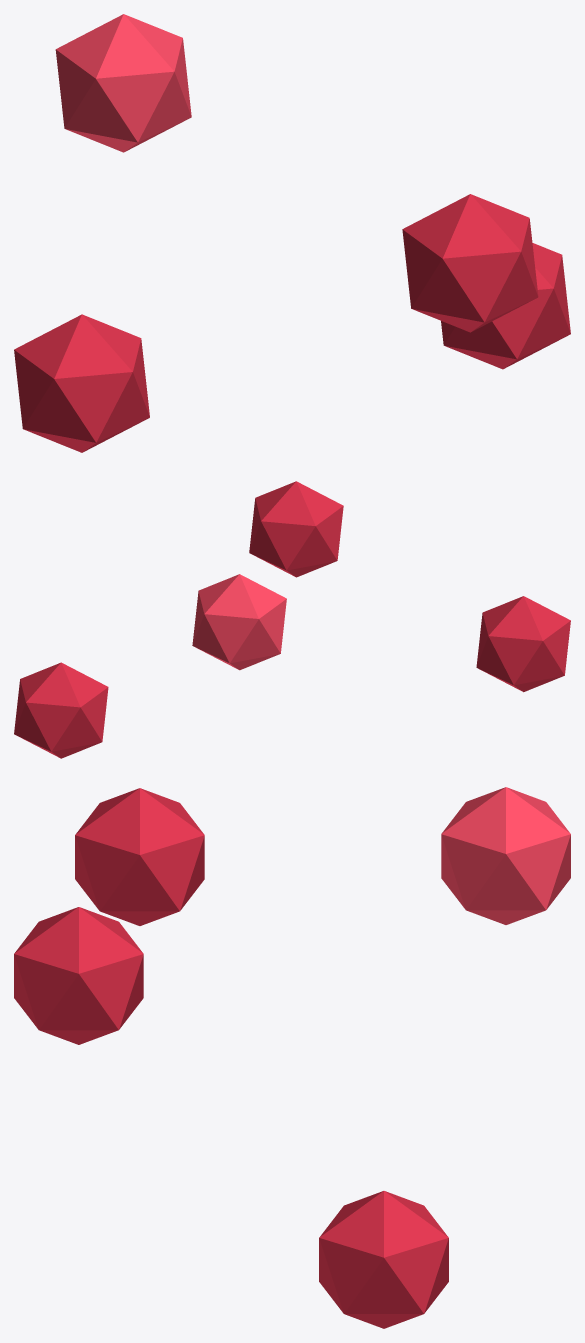
File: berries.glb
3 views of the same model, one above another, from view 1: azimuth 30°, elevation 25°; view 2: azimuth 150°, elevation 25°; view 3: azimuth 270°, elevation 25° (orthographic). The views are drawn at different scales.
Parts seen in each view (by area): view 1: B1, B2, B3, B4; view 2: B3, B4, B1, B2; view 3: B3, B4, B1, B2.
Boxes of the visible parts, <box> form: B1: <box>402,194,538,332</box>; B2: <box>14,314,149,452</box>; B3: <box>55,14,191,152</box>; B4: <box>441,243,570,369</box>; B3: <box>192,574,286,670</box>; B4: <box>14,662,108,758</box>; B1: <box>249,481,343,577</box>; B2: <box>476,596,570,692</box>; B3: <box>441,787,570,924</box>; B4: <box>319,1191,448,1328</box>; B1: <box>14,907,143,1044</box>; B2: <box>75,788,204,925</box>.
Size of the model in its own units: 0.4994 by 0.28 by 0.3651.
